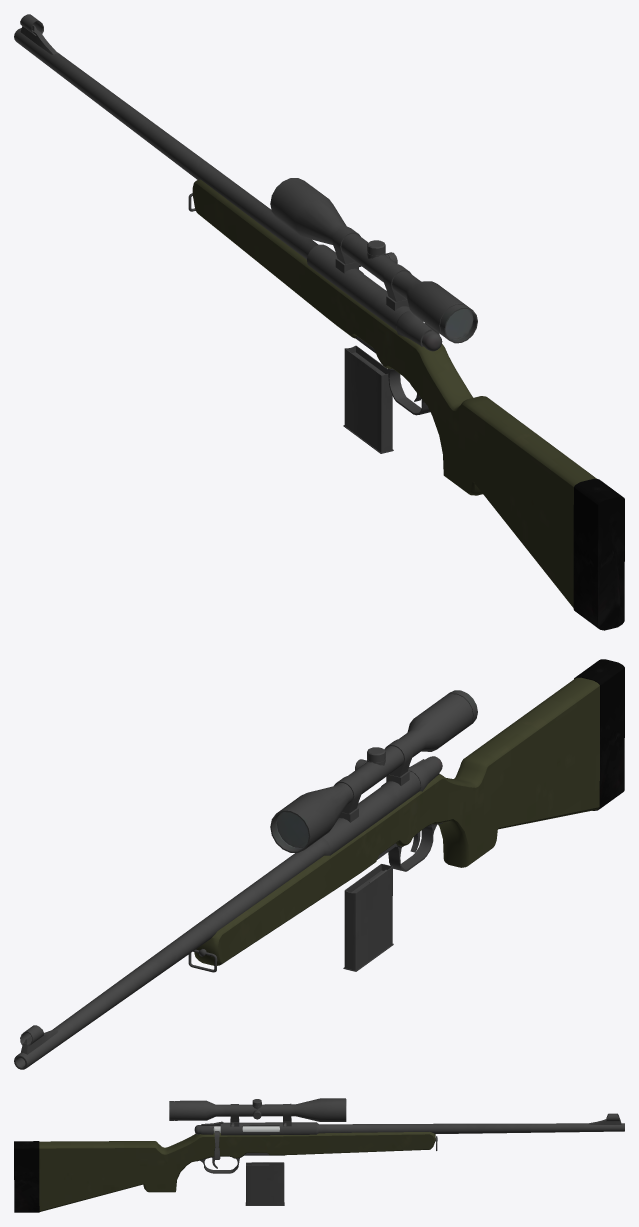
Rendered from gun_sniper.glb.
3 renders of one model, top to bottom at view 1: azimuth 30°, elevation 25°; view 2: azimuth 150°, elevation 25°; view 3: azimuth 270°, elevation 25°, orthographic. The views are drawn at different scales.
Visible parts, largest first — view 1: Stock, Barrel, Scope, Magazine; view 2: Stock, Barrel, Scope, Magazine, IronSight; view 3: Stock, Barrel, Scope, Magazine, Bolt, IronSight.
Part boxes in pixels (x1,y1,x2,y2): Stock: (192, 179, 624, 630); Barrel: (14, 28, 439, 415); Scope: (270, 178, 477, 343); Magazine: (343, 345, 393, 453); Stock: (194, 659, 624, 965); Barrel: (14, 757, 442, 1069); Scope: (270, 690, 477, 852); Magazine: (343, 864, 393, 971); IronSight: (20, 1025, 58, 1054); Stock: (14, 1132, 435, 1212); Barrel: (197, 1121, 624, 1173); Scope: (169, 1098, 346, 1126); Magazine: (245, 1162, 284, 1205); Bolt: (194, 1125, 279, 1159); IronSight: (588, 1113, 621, 1124).
Size of the model in its own units: 0.0568 by 0.2303 by 1.14.
1 material, 1 textured.
